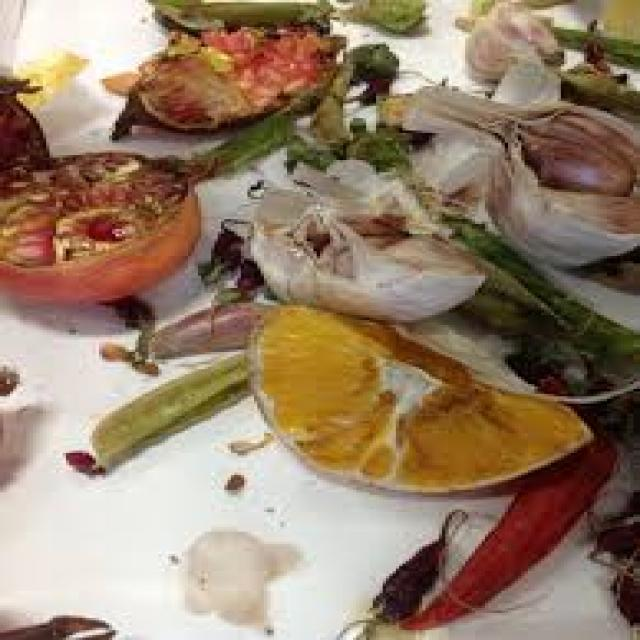organic waste: (244, 300, 591, 490), (396, 369, 610, 628), (396, 72, 637, 264), (244, 155, 478, 318), (442, 207, 637, 359), (0, 150, 195, 300), (132, 30, 336, 130), (370, 507, 465, 618), (184, 532, 294, 622), (452, 0, 561, 79), (132, 295, 274, 352), (195, 96, 290, 165), (455, 291, 571, 347), (287, 121, 409, 172), (195, 104, 287, 168), (145, 0, 327, 32), (511, 328, 594, 397), (198, 214, 267, 296), (561, 18, 623, 108), (488, 42, 568, 101), (10, 50, 89, 109), (584, 488, 637, 568), (548, 19, 636, 66), (0, 72, 46, 152), (330, 0, 429, 32), (0, 610, 109, 638), (0, 401, 36, 484), (343, 40, 396, 86), (109, 88, 158, 136), (112, 290, 158, 335), (604, 559, 636, 620), (62, 448, 106, 470), (99, 69, 142, 89), (231, 431, 270, 453), (102, 342, 132, 362), (129, 355, 155, 374), (218, 472, 247, 488), (0, 364, 13, 396)
